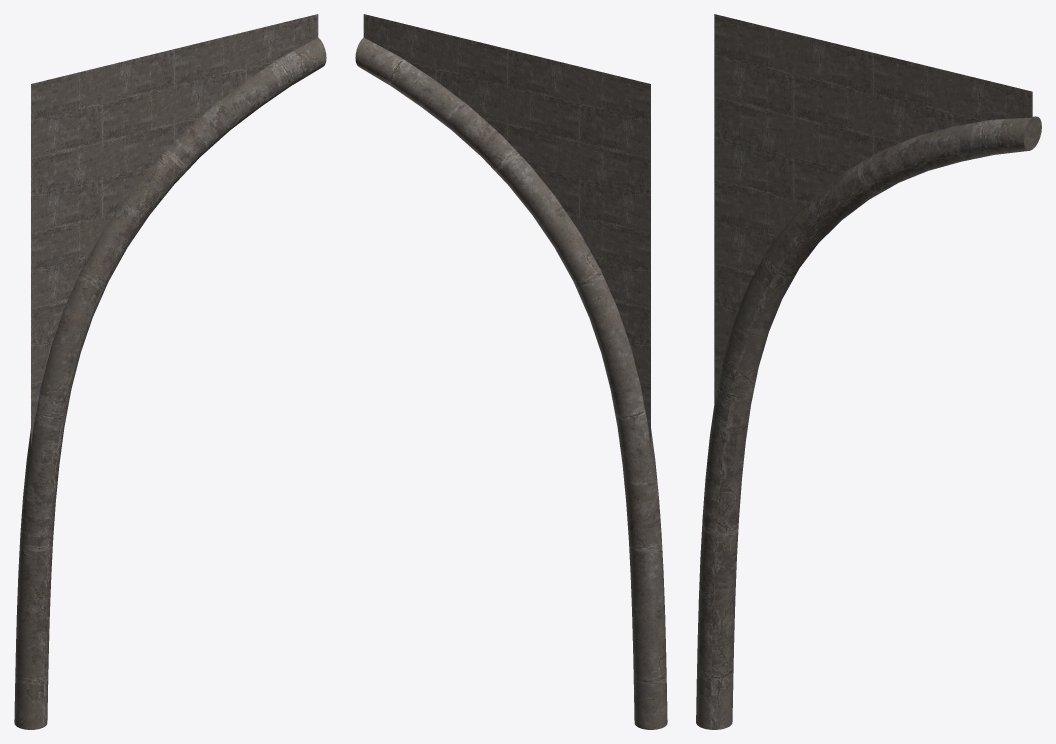
File: ArcSingle8x16.fbx
3 renders of one model, left to right at view 1: azimuth 30°, elevation 25°; view 2: azimuth 150°, elevation 25°; view 3: azimuth 330°, elevation 25°, orthographic. The views are drawn at different scales.
Visible parts, largest first — view 1: Trim_Arc_Single_8x16; view 2: Trim_Arc_Single_8x16; view 3: Trim_Arc_Single_8x16.
Part boxes in pixels (bbox=[...]): Trim_Arc_Single_8x16: bbox=[14, 14, 326, 729]; Trim_Arc_Single_8x16: bbox=[355, 14, 667, 729]; Trim_Arc_Single_8x16: bbox=[696, 14, 1041, 729].
Bounding box in the file's own units: 840 × 1700 × 80.
